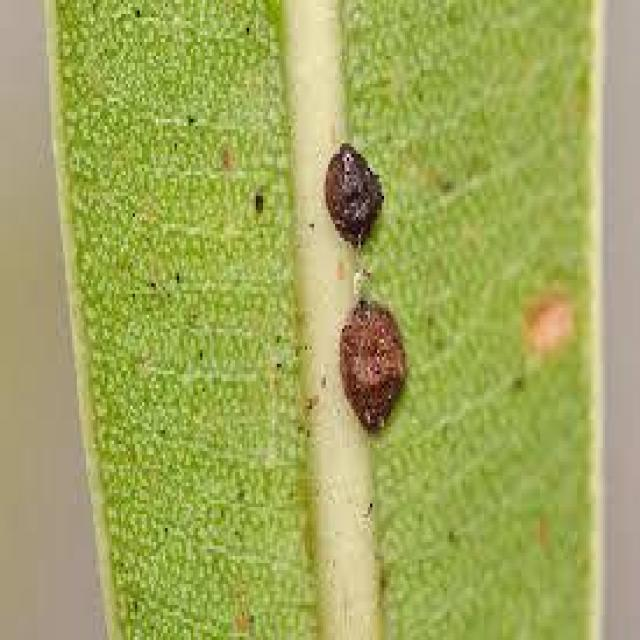Black Scale: (338, 297, 409, 430), (323, 143, 382, 245)
